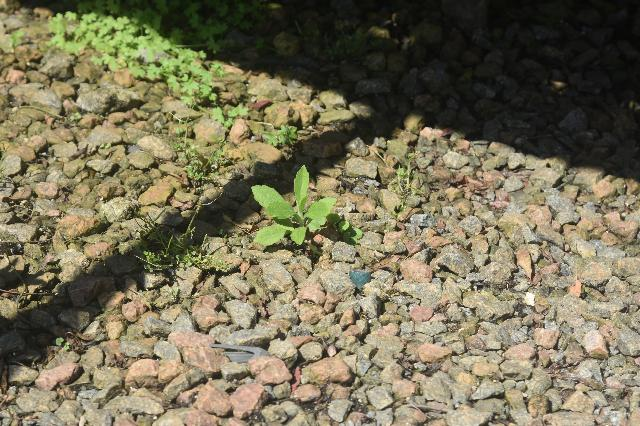MalezaMontesDelPlata: (45, 0, 225, 103), (239, 161, 357, 263), (126, 194, 223, 276), (161, 109, 239, 186), (285, 10, 396, 62)
